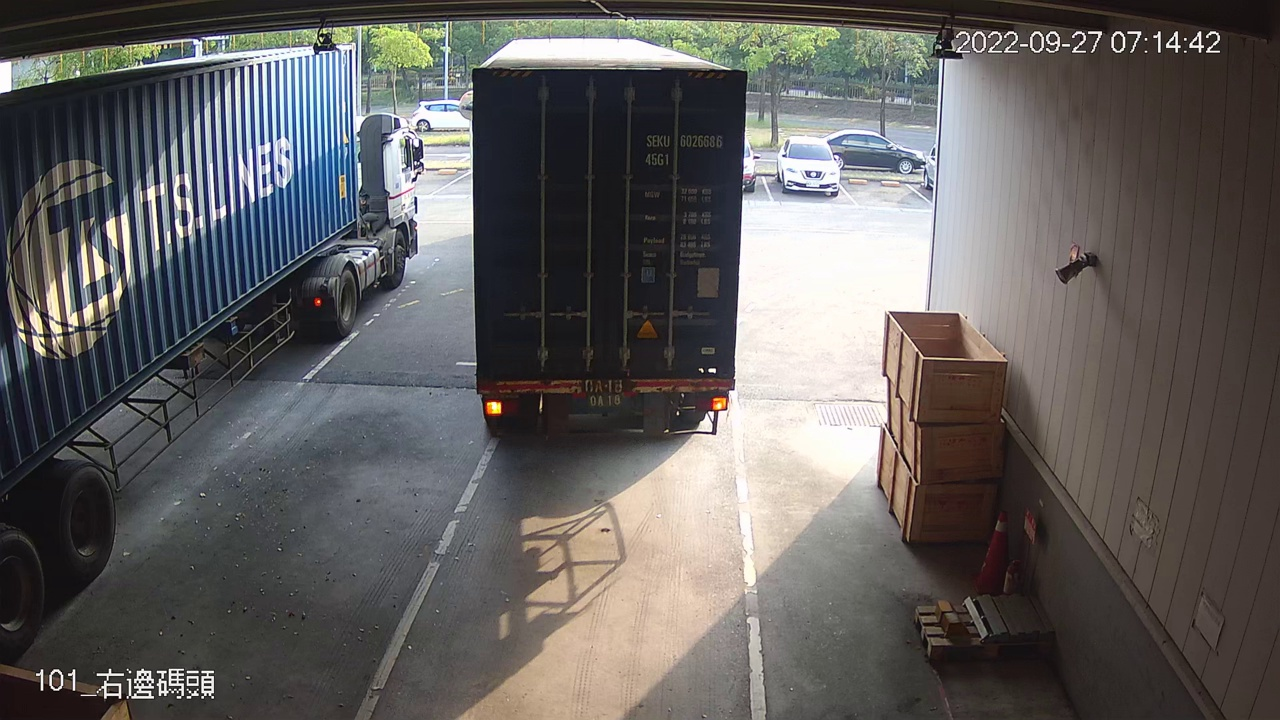container: (637, 127, 730, 173)
